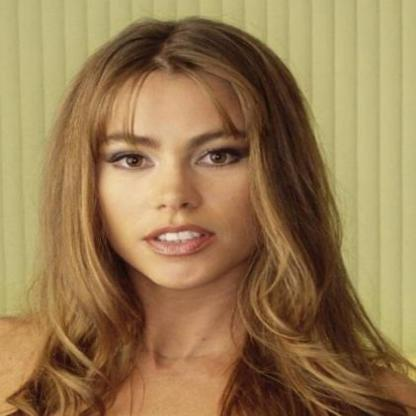long-hair: (31, 289, 354, 380)
